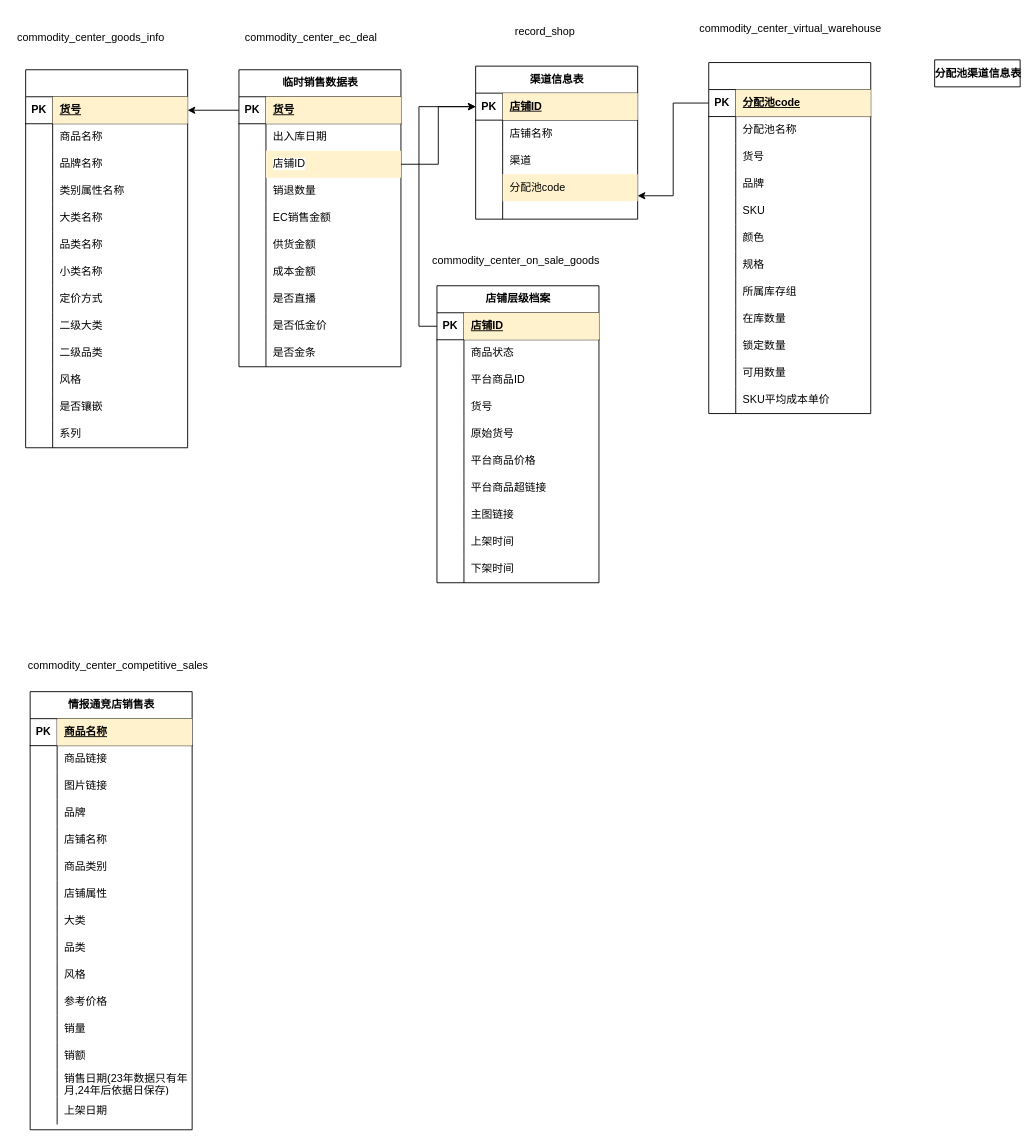
Image size: 1036x1146. Some labels were removed from this diagram. The shapes that lost their labels are listed below. From the top down, each one's box as (x1, y1, x2, y2) in pixels, then its label:
(708, 62, 871, 414): 分配池库存帐
(25, 69, 188, 448): 商品参数表
